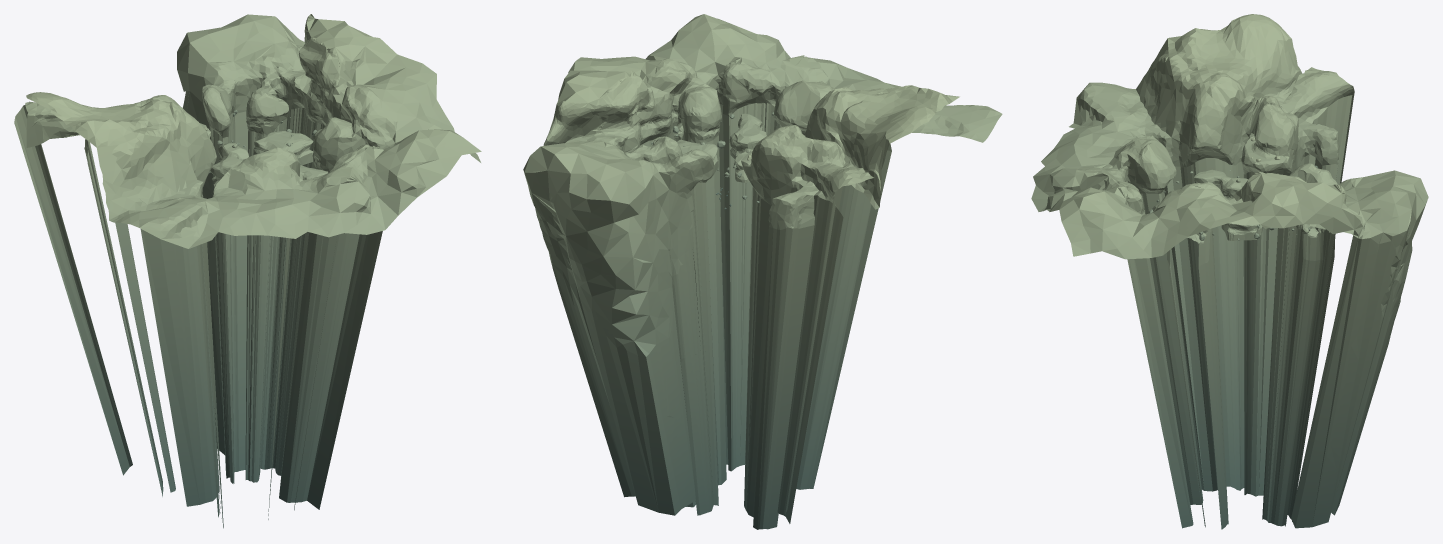
The model's file is wetland-aspect.glb.
The picture shows the model from 3 angles, left to right: view 1: azimuth 30°, elevation 25°; view 2: azimuth 150°, elevation 25°; view 3: azimuth 270°, elevation 25°; orthographic projection. The views are drawn at different scales.
Size of the model in its own units: 989 by 1100 by 974.
